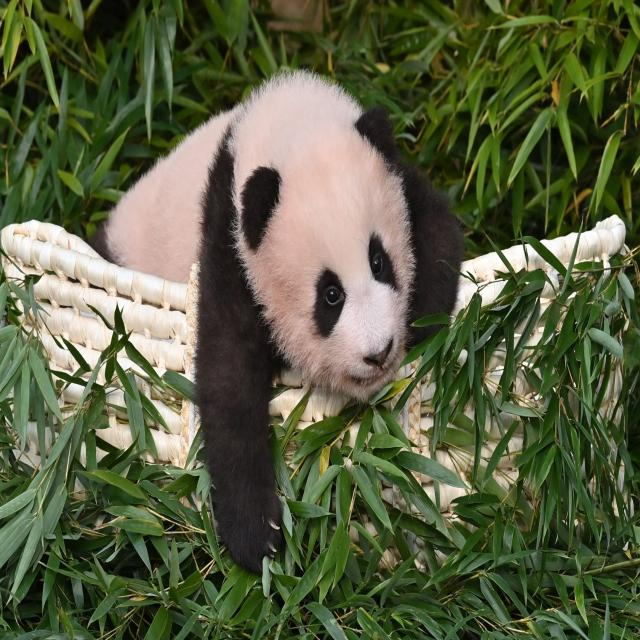Panda: (102, 51, 462, 588)
